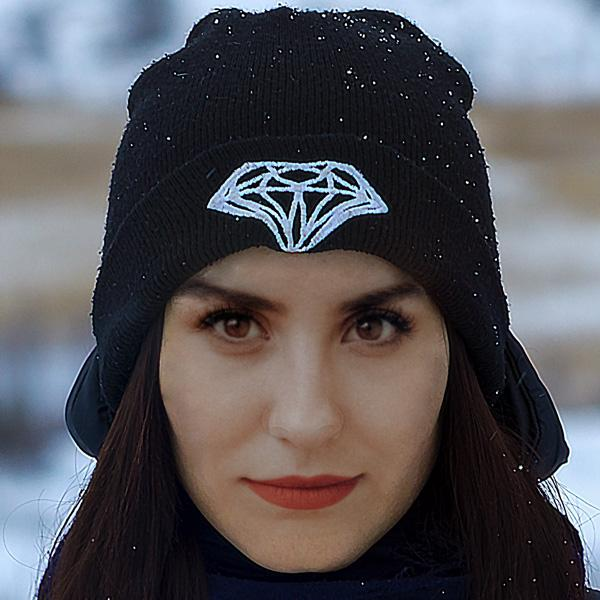Eyes: (328, 306, 422, 356), (182, 299, 274, 349)
